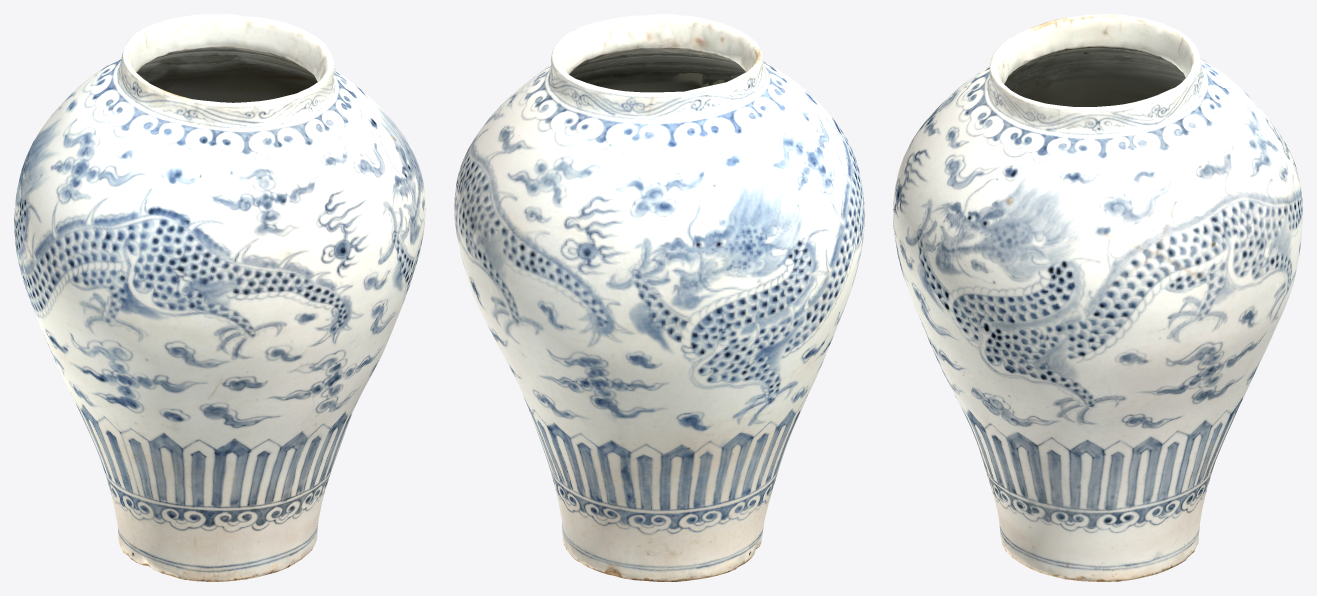
3 renders of one model, left to right at view 1: azimuth 30°, elevation 25°; view 2: azimuth 150°, elevation 25°; view 3: azimuth 270°, elevation 25°, orthographic.
Parts seen in each view (by area): view 1: WB_Vaseobjcleanermaterialmergergles; view 2: WB_Vaseobjcleanermaterialmergergles; view 3: WB_Vaseobjcleanermaterialmergergles.
Boxes of the visible parts, x1,y1,x2,y2 form: WB_Vaseobjcleanermaterialmergergles: (14, 14, 425, 581); WB_Vaseobjcleanermaterialmergergles: (454, 14, 864, 581); WB_Vaseobjcleanermaterialmergergles: (893, 14, 1302, 581).
Size of the model in its own units: 0.152 by 0.1992 by 0.1511.
1 material, 1 textured.
